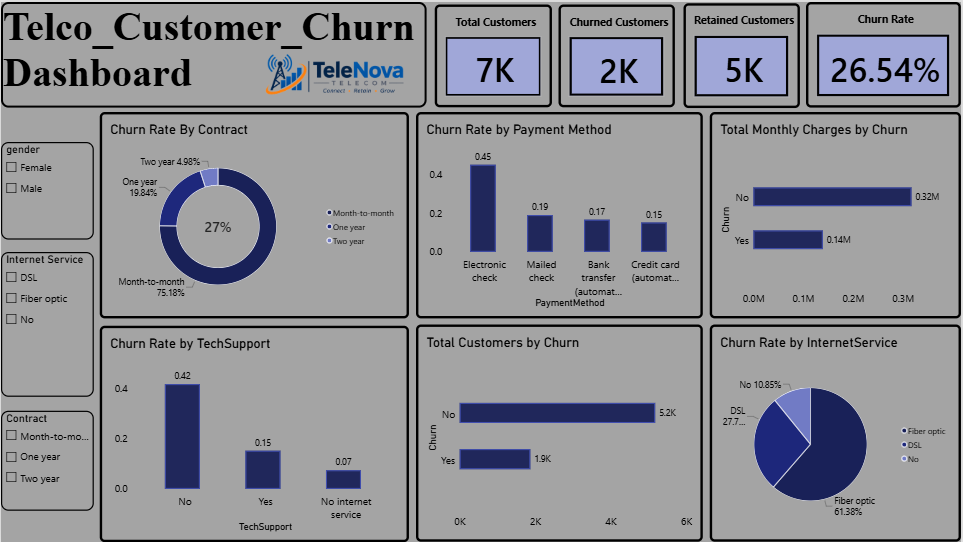

This screenshot's page, from the dashboard's own definition file:
{"tool":"powerbi","page":{"name":"Page 1","canvas":[1920,1080],"ordinal":0},"visuals":[{"type":"cardVisual","fields":{"Data":["Telco-Customer-Churn.Total Customers"]},"box":[867.2,5.4,234.2,205.6],"z":0},{"type":"cardVisual","fields":{"Data":["Telco-Customer-Churn.Churned Customers"]},"box":[1114,5.4,232.4,205.6],"z":1000},{"type":"cardVisual","fields":{"Data":["Telco-Customer-Churn.Retained Customers"]},"box":[1364.3,1.8,232.4,209.2],"z":2000},{"type":"cardVisual","fields":{"Data":["Telco-Customer-Churn.Churn Rate"]},"box":[1611,0,309.3,211],"z":3000},{"type":"barChart","fields":{"Category":["Telco-Customer-Churn.Churn"],"Y":["Telco-Customer-Churn.Total Customers"]},"box":[829.7,645.5,574,434.5],"z":4000},{"type":"donutChart","title":"Churn Rate By Contract","fields":{"Category":["Telco-Customer-Churn.Contract"],"Y":["Telco-Customer-Churn.Churn Rate"]},"box":[198.5,219.9,618.7,413],"z":5000},{"type":"columnChart","title":"Churn Rate by Payment Method","fields":{"Category":["Telco-Customer-Churn.PaymentMethod"],"Y":["Telco-Customer-Churn.Churn Rate"]},"box":[829.7,219.9,574,413],"z":6000},{"type":"slicer","fields":{"Values":["Telco-Customer-Churn.gender"]},"box":[0,280.7,186,194.9],"z":7000},{"type":"slicer","fields":{"Values":["Telco-Customer-Churn.Contract"]},"box":[0,817.1,186,200.3],"z":8000},{"type":"slicer","fields":{"Values":["Telco-Customer-Churn.InternetService"]},"box":[0,500.7,186,289.7],"z":9000},{"type":"textbox","box":[0,0,851.1,211],"z":10000},{"type":"pieChart","fields":{"Category":["Telco-Customer-Churn.InternetService"],"Y":["Telco-Customer-Churn.Churn Rate"]},"box":[1417.9,645.5,502.4,434.5],"z":11000},{"type":"barChart","fields":{"Category":["Telco-Customer-Churn.Churn"],"Y":["Telco-Customer-Churn.Total Monthly Charges"]},"box":[1417.9,219.9,502.4,413],"z":12000},{"type":"columnChart","fields":{"Category":["Telco-Customer-Churn.TechSupport"],"Y":["Telco-Customer-Churn.Churn Rate"]},"box":[198.5,647.3,618.7,432.7],"z":13000},{"type":"image","box":[516.7,5.4,300.4,296.8],"z":13001}]}

Visuals, with their boxes in screenshot pixels (x1, y1, x2, y2), scaled from the page's 1920x1080 canvas onto the 963x542 screenshot:
cardVisual - Telco-Customer-Churn.Total Customers: (left=435, top=3, right=552, bottom=106)
cardVisual - Telco-Customer-Churn.Churned Customers: (left=559, top=3, right=675, bottom=106)
cardVisual - Telco-Customer-Churn.Retained Customers: (left=684, top=1, right=801, bottom=106)
cardVisual - Telco-Customer-Churn.Churn Rate: (left=808, top=0, right=962, bottom=106)
barChart - Telco-Customer-Churn.Churn x Telco-Customer-Churn.Total Customers: (left=416, top=324, right=704, bottom=541)
"Churn Rate By Contract" donutChart: (left=100, top=110, right=410, bottom=318)
"Churn Rate by Payment Method" columnChart: (left=416, top=110, right=704, bottom=318)
slicer - Telco-Customer-Churn.gender: (left=0, top=141, right=93, bottom=239)
slicer - Telco-Customer-Churn.Contract: (left=0, top=410, right=93, bottom=511)
slicer - Telco-Customer-Churn.InternetService: (left=0, top=251, right=93, bottom=397)
textbox: (left=0, top=0, right=427, bottom=106)
pieChart - Telco-Customer-Churn.InternetService x Telco-Customer-Churn.Churn Rate: (left=711, top=324, right=962, bottom=541)
barChart - Telco-Customer-Churn.Churn x Telco-Customer-Churn.Total Monthly Charges: (left=711, top=110, right=962, bottom=318)
columnChart - Telco-Customer-Churn.TechSupport x Telco-Customer-Churn.Churn Rate: (left=100, top=325, right=410, bottom=541)
image: (left=259, top=3, right=410, bottom=152)
